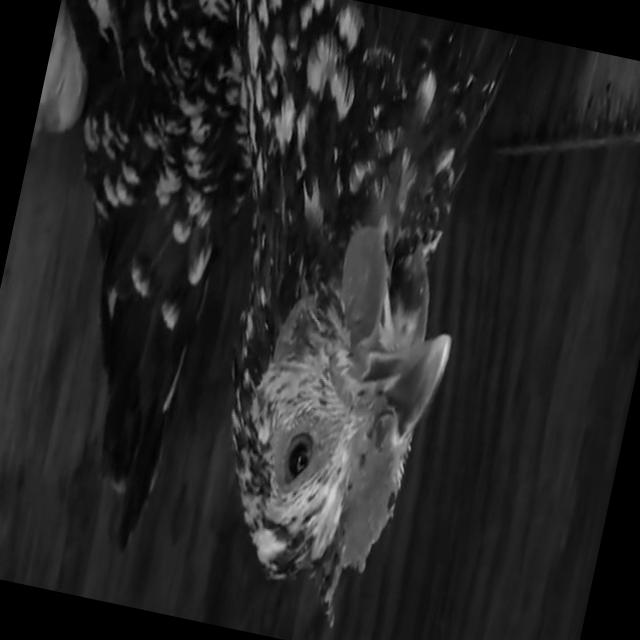menacing: (0, 0, 528, 640)
